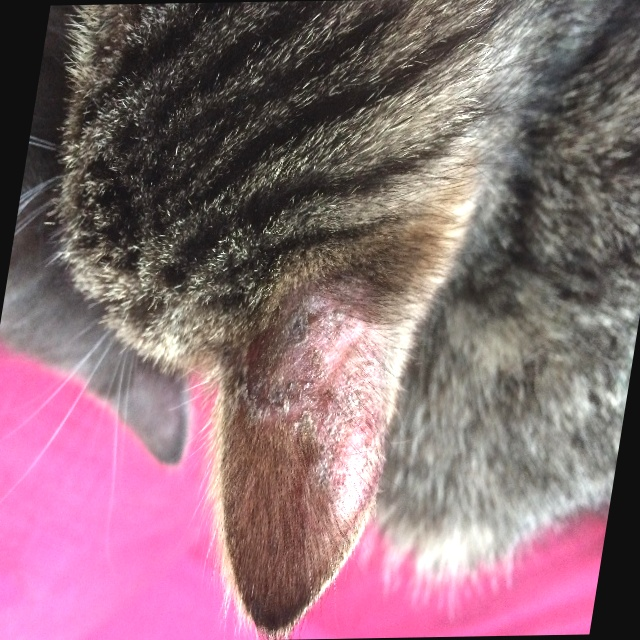ringworm: (249, 290, 412, 530)
